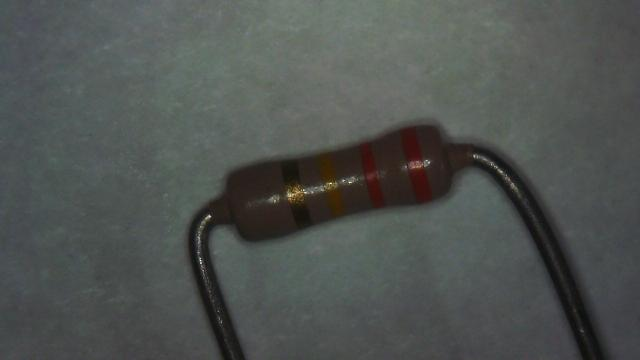gold: (280, 158, 312, 229)
orange: (400, 126, 432, 202), (360, 142, 385, 208)
resistor: (191, 98, 477, 280)
yellow: (318, 152, 345, 217)
